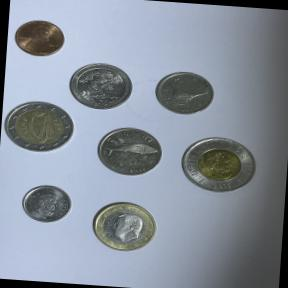coin: (172, 130, 266, 206), (80, 194, 165, 260), (88, 121, 171, 186), (0, 97, 78, 159), (64, 58, 140, 114), (6, 13, 74, 66), (16, 179, 79, 230)
